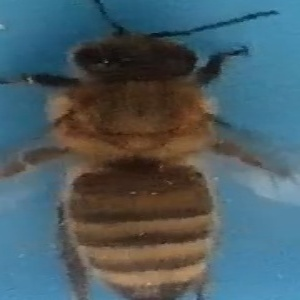bee: (7, 22, 273, 300)
